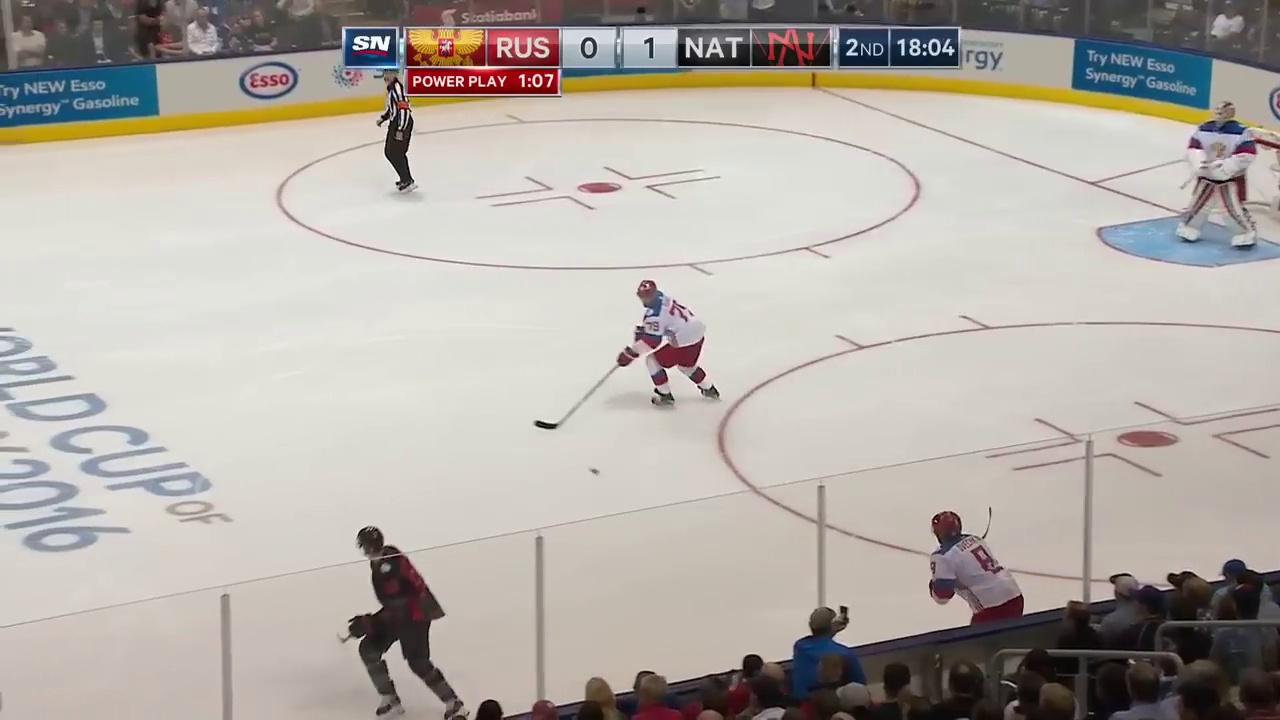ball: (588, 467, 602, 478)
